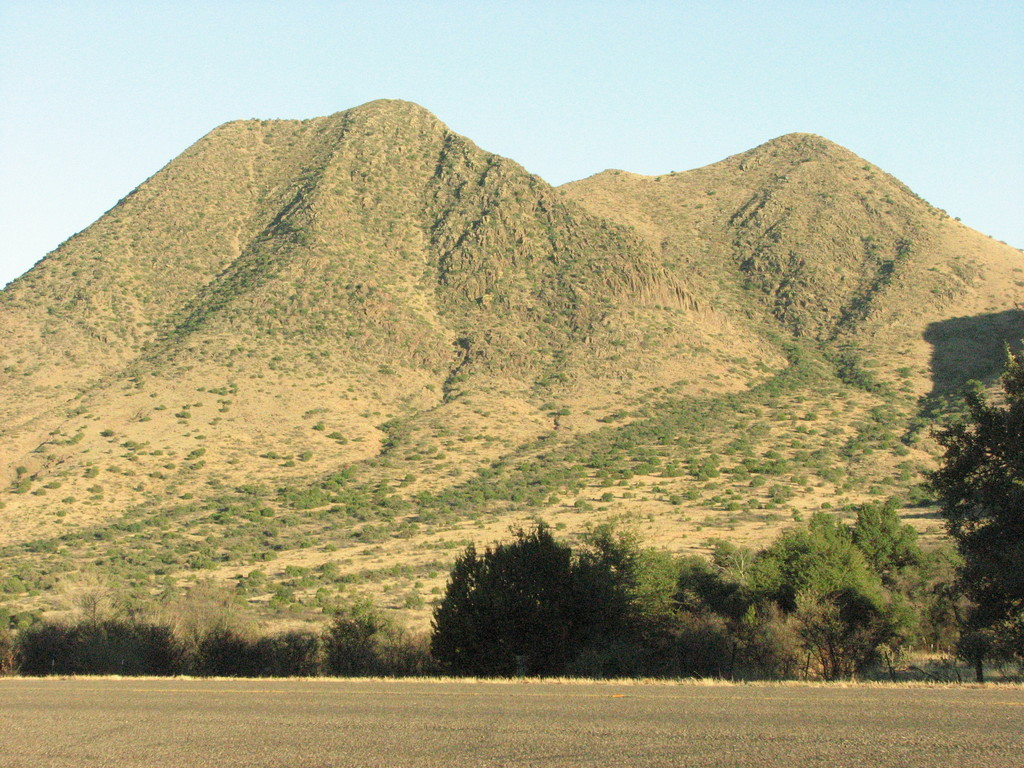Tree: (0, 96, 1024, 681)
